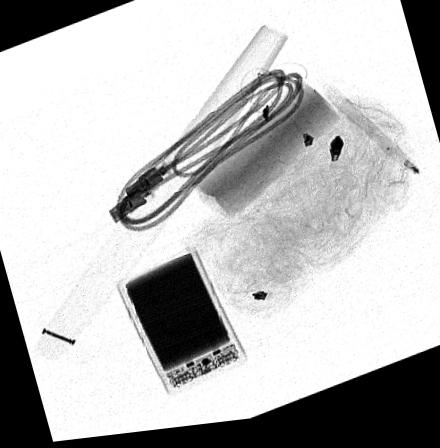Powerbank: (116, 250, 245, 398)
